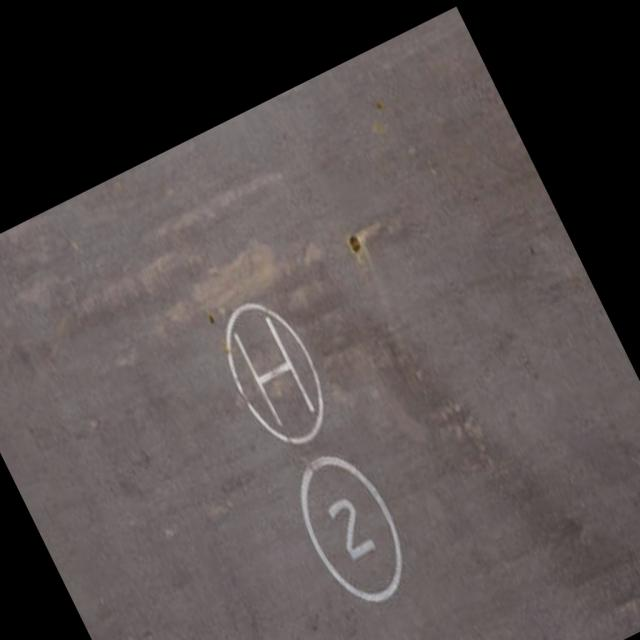helipad: (220, 298, 329, 448)
